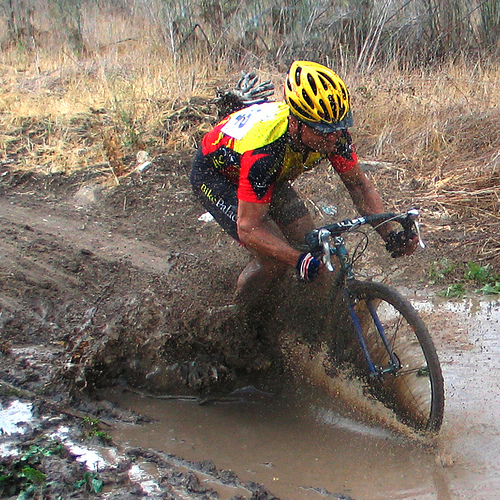helmet: (282, 58, 358, 128)
